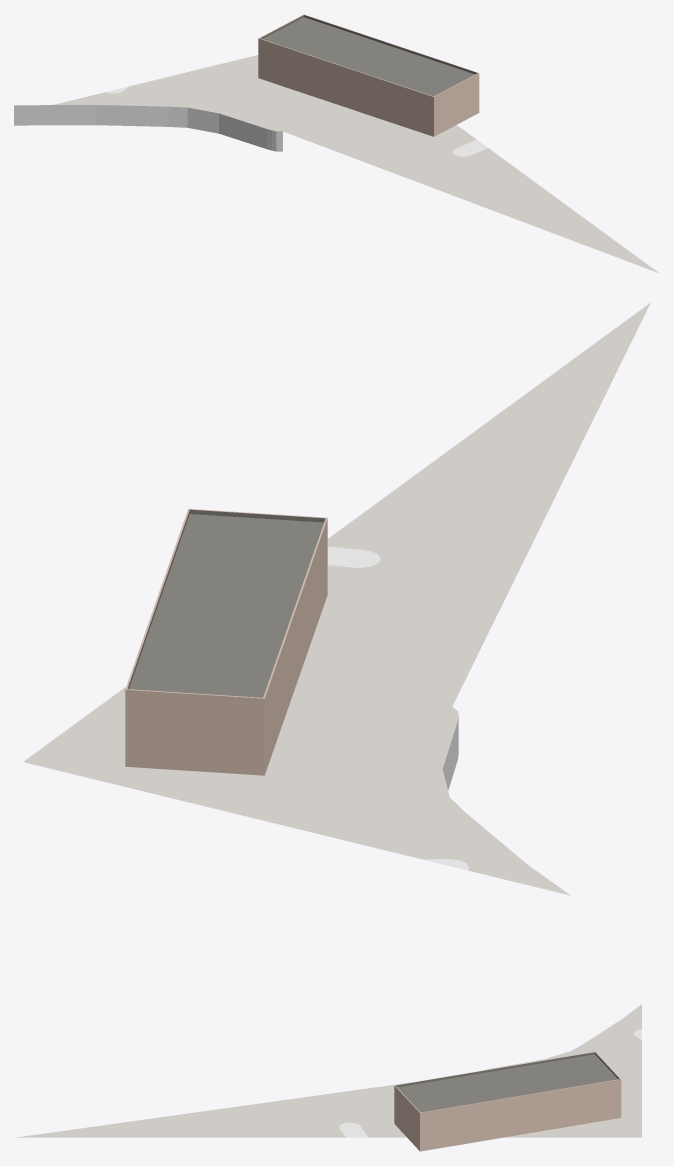
3 renders of one model, top to bottom at view 1: azimuth 30°, elevation 25°; view 2: azimuth 150°, elevation 25°; view 3: azimuth 270°, elevation 25°, orthographic. The views are drawn at different scales.
Visible parts, largest first — view 1: ground, walls, roofs, coast, asphalt; view 2: ground, roofs, walls, asphalt; view 3: ground, walls, roofs, asphalt.
Part boxes in pixels (x1,y1,x2,y2): ground: (53, 55, 658, 272); walls: (258, 38, 479, 136); roofs: (259, 14, 478, 96); coast: (14, 105, 282, 151); asphalt: (106, 86, 487, 156); ground: (23, 302, 650, 895); roofs: (125, 508, 327, 698); walls: (125, 519, 327, 775); asphalt: (327, 546, 469, 870); ground: (16, 1004, 641, 1137); walls: (394, 1079, 621, 1151); roofs: (394, 1051, 620, 1112); asphalt: (339, 1029, 641, 1137).
Size of what is drawn, in the model's own units: 88.44 by 14.85 by 150.
